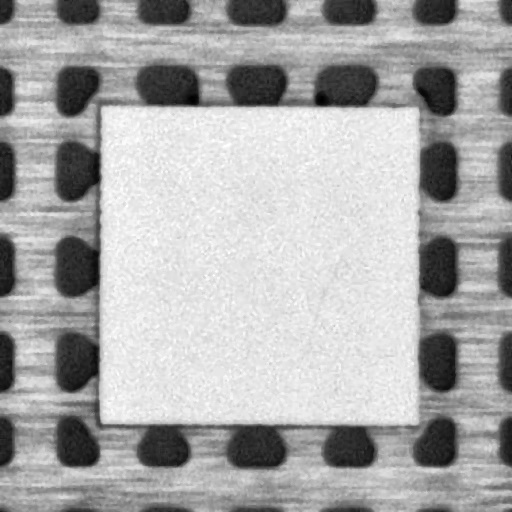DIE_CRACK: (300, 249, 346, 354)
